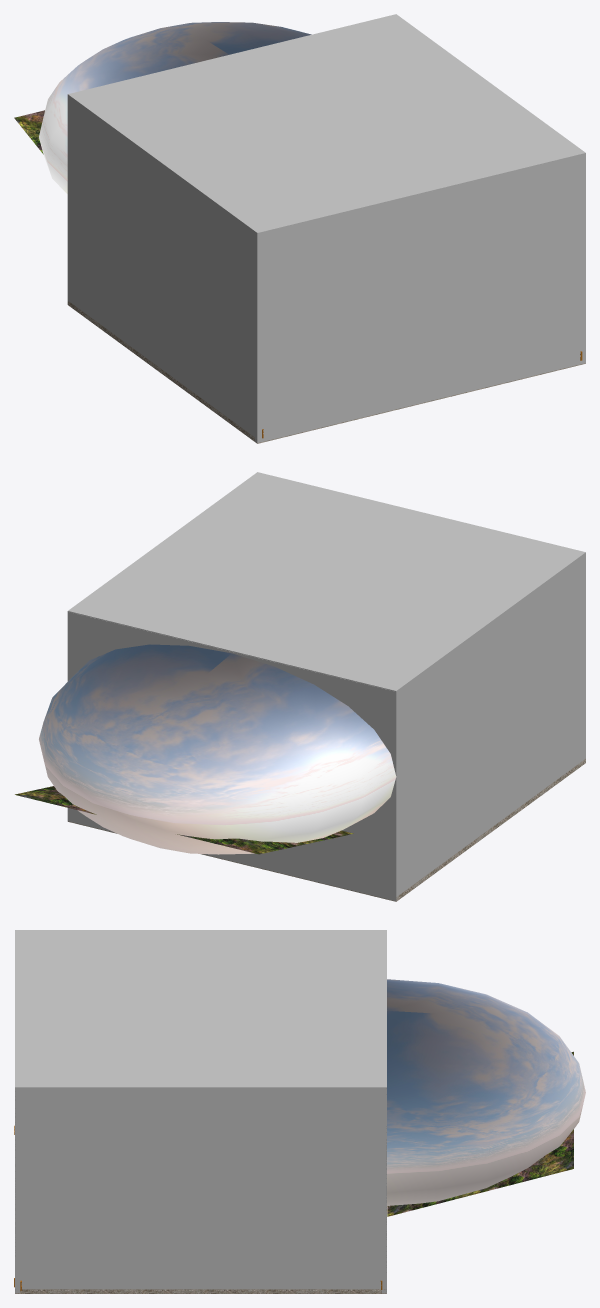
3 renders of one model, top to bottom at view 1: azimuth 30°, elevation 25°; view 2: azimuth 150°, elevation 25°; view 3: azimuth 270°, elevation 25°, orthographic. The views are drawn at different scales.
Parts seen in each view (by area): view 1: back, top, left, sky, bottom, Mountain; view 2: top, sky, left, front_1, Mountain, bottom; view 3: right, top, sky, Mountain, bottom, front_1, back.
Boxes of the visible parts, x1,y1,x2,y2 form: back: [255, 153, 585, 442]; top: [67, 14, 585, 234]; left: [67, 98, 257, 438]; sky: [39, 22, 311, 193]; bottom: [67, 301, 585, 443]; Mountain: [14, 110, 44, 154]; top: [67, 472, 585, 694]; sky: [39, 644, 396, 854]; left: [396, 555, 585, 895]; front_1: [67, 611, 398, 900]; Mountain: [15, 786, 353, 854]; bottom: [68, 759, 585, 901]; right: [15, 1090, 386, 1289]; top: [15, 930, 386, 1091]; sky: [387, 979, 585, 1205]; Mountain: [387, 1051, 573, 1216]; bottom: [15, 1289, 386, 1293]; front_1: [382, 1088, 386, 1293]; back: [15, 1088, 19, 1293].
Size of the model in its own units: 4.07 by 2.48 by 6.21.
Materials: 24 (19 with a texture image).
